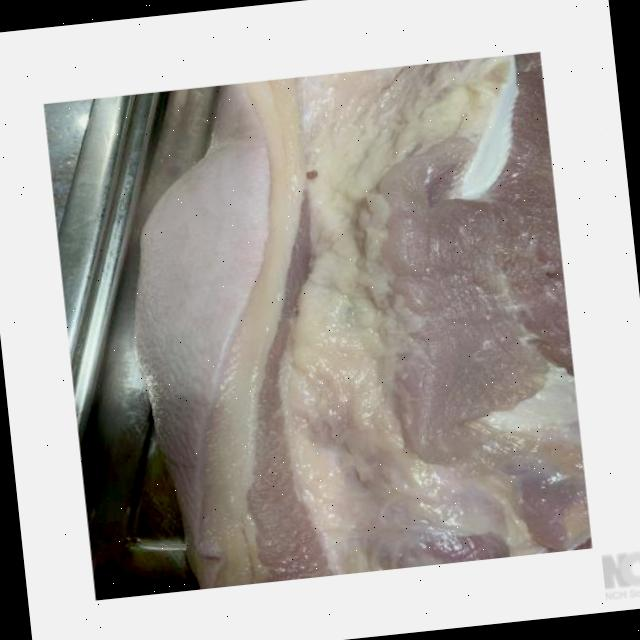rotten meat: (18, 27, 608, 614)
